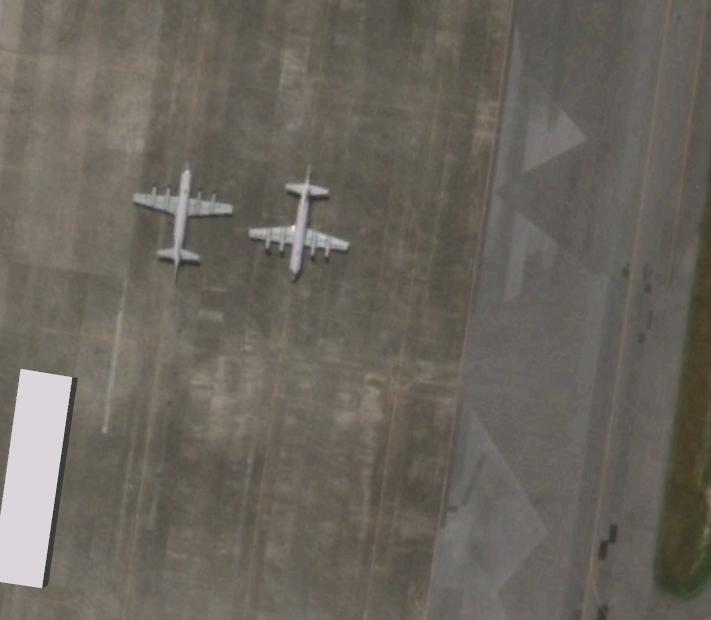A9: (127, 157, 235, 284), (244, 155, 352, 282)
